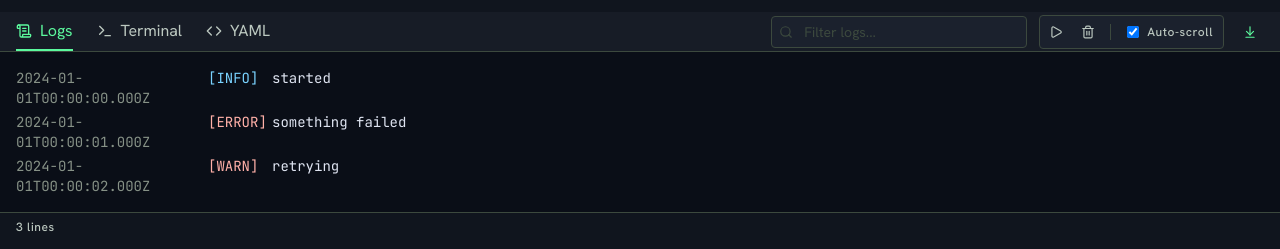
Test: LogViewer › filters log lines by keyword
Type "failed" into the field with placeholder "Filter logs..." at x=899, y=32, box [771,16,1027,48]
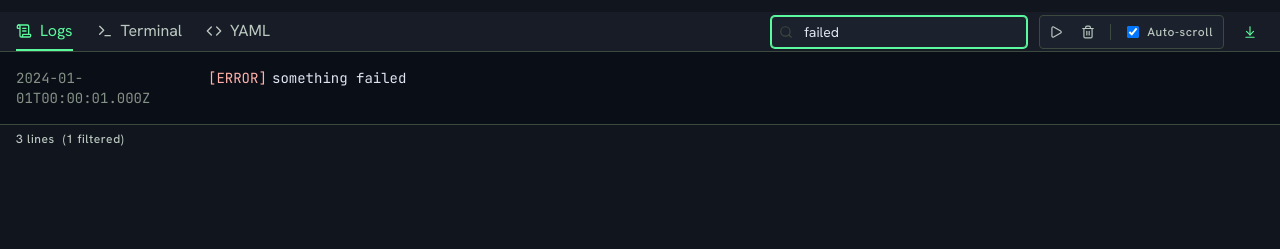
Result: the text "started" is gone
Result: the text "something failed" is shown at [272,69,406,87]
Result: the text "retrying" is gone
